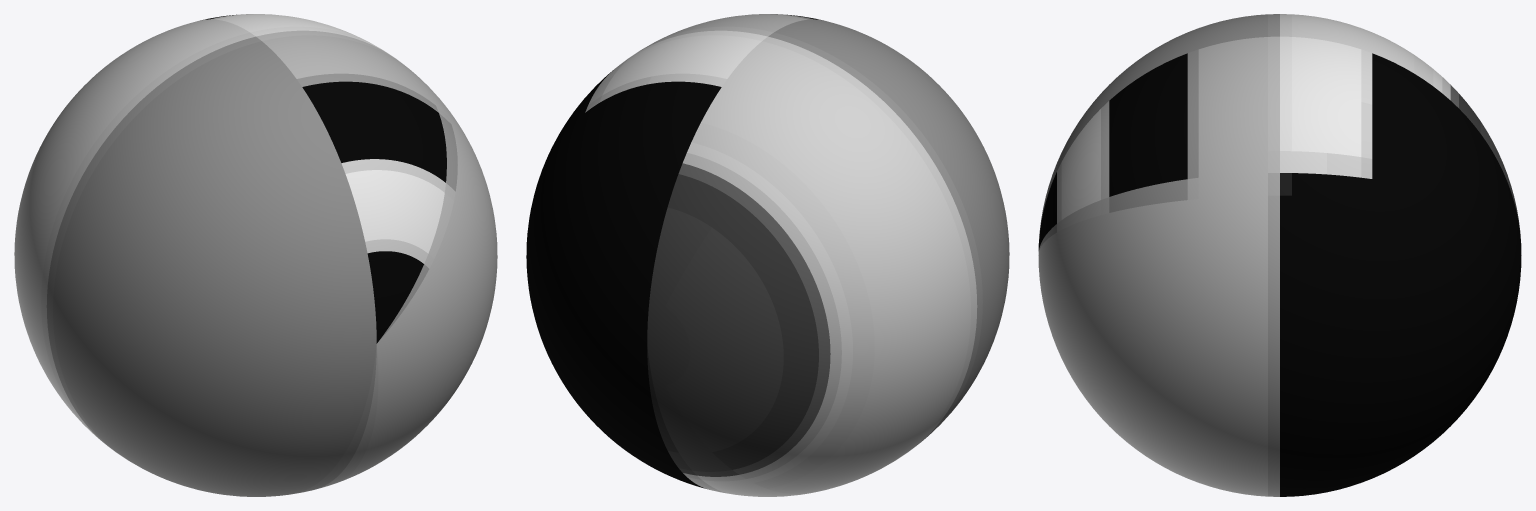
Rendered from earth_6.obj.
3 renders of one model, left to right at view 1: azimuth 30°, elevation 25°; view 2: azimuth 150°, elevation 25°; view 3: azimuth 270°, elevation 25°, orthographic.
Parts seen in each view (by area): view 1: Earth_Material_#50_0; view 2: Earth_Material_#50_0; view 3: Earth_Material_#50_0.
Part boxes in pixels (left/top/right/bottom): Earth_Material_#50_0: left=14, top=14, right=497, bottom=496; Earth_Material_#50_0: left=526, top=14, right=1009, bottom=496; Earth_Material_#50_0: left=1038, top=14, right=1521, bottom=496.
Bounding box in the file's own units: 10 × 10 × 10.
